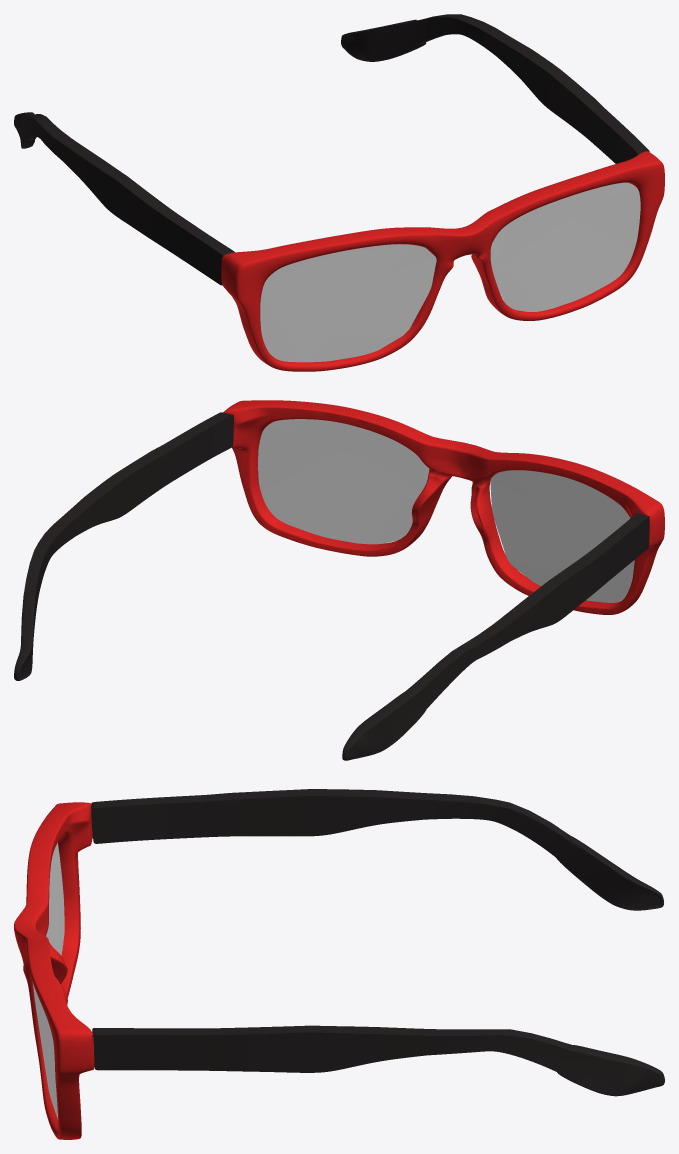
File: occhiali_marc.fbx
3 views of the same model, one above another, from view 1: azimuth 30°, elevation 25°; view 2: azimuth 150°, elevation 25°; view 3: azimuth 270°, elevation 25° (orthographic). The views are drawn at different scales.
Parts seen in each view (by area): view 1: Cube.001; view 2: Cube.001; view 3: Cube.001.
Part boxes in pixels (x1=…): Cube.001: x1=14, y1=14, x2=664, y2=371; Cube.001: x1=14, y1=400, x2=664, y2=760; Cube.001: x1=14, y1=789, x2=664, y2=1139.
Size of the model in its own units: 17.97 by 5.1 by 20.26.
